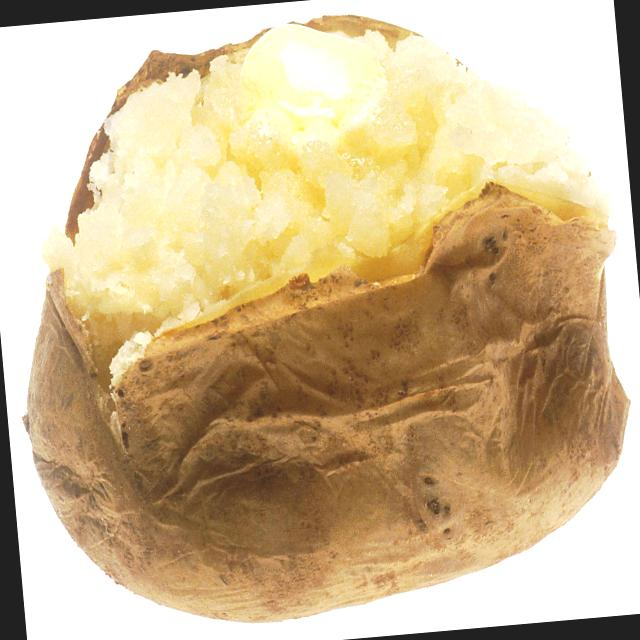potato: (0, 0, 640, 630)
